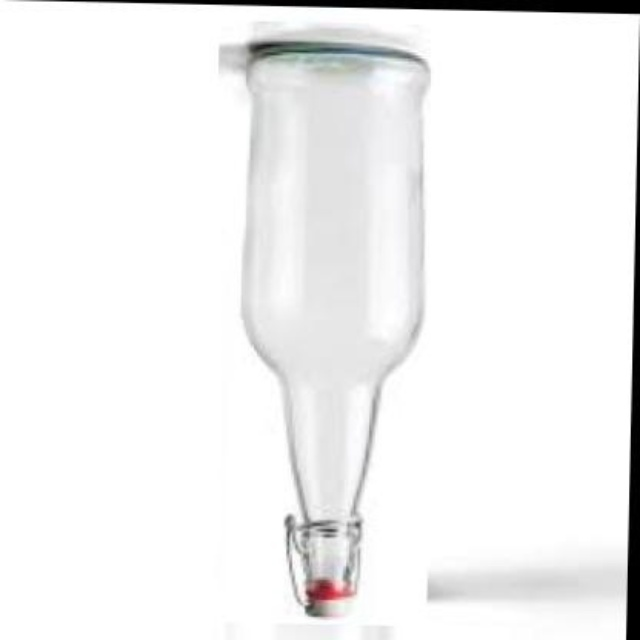trash: (242, 42, 428, 615)
